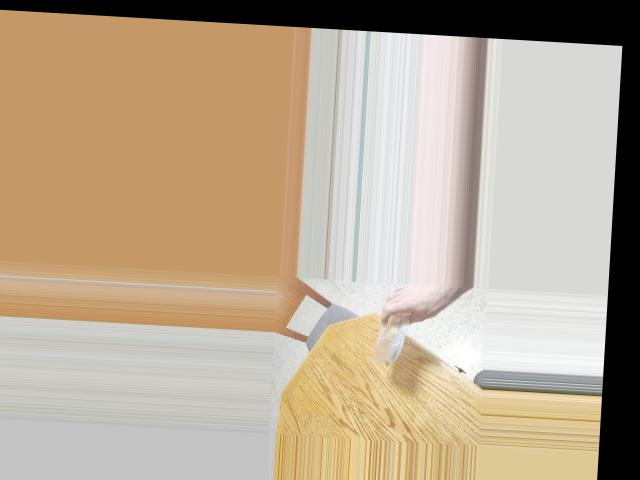cheese: (372, 311, 419, 360)
